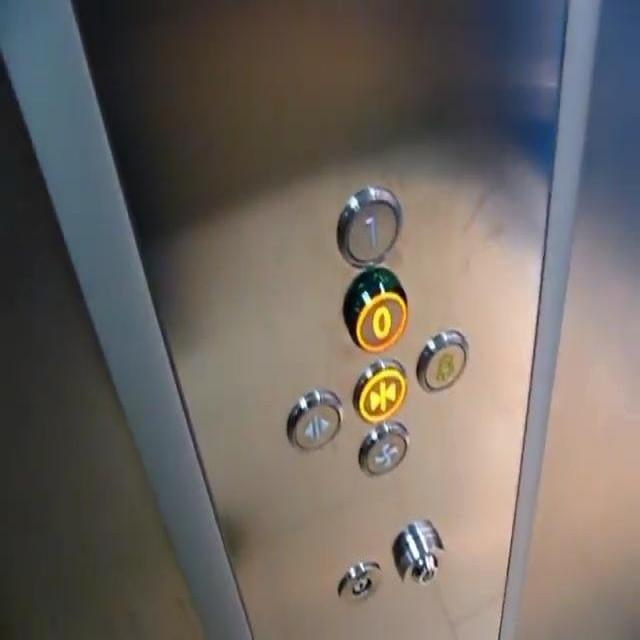0: (342, 265, 408, 352)
1: (335, 184, 401, 268)
alarm: (415, 328, 468, 397)
close: (350, 356, 408, 423)
fan: (356, 420, 410, 479)
keyhole: (390, 516, 446, 587), (336, 558, 382, 606)
open: (285, 388, 343, 453)
